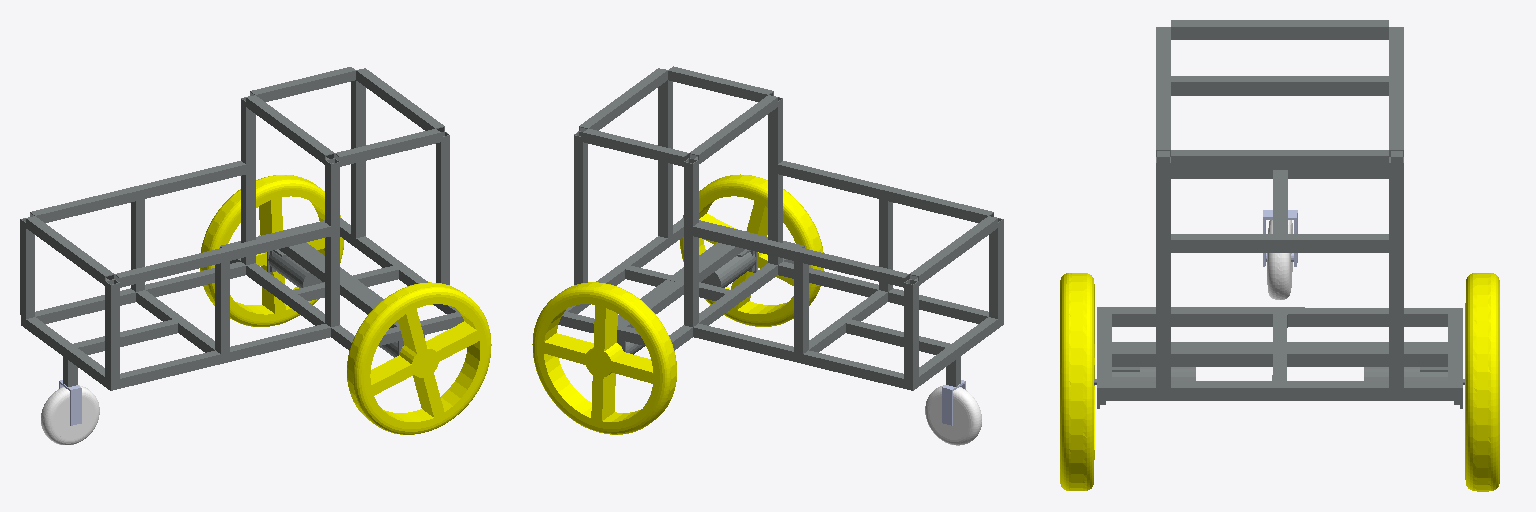
robot.urdf — rugved_description:
<robot
  name="rugved_description">
  <link
    name="base_link">
    <inertial>
      <origin
        xyz="0.10025 -0.00023509 0.24914"
        rpy="0 0 0" />
      <mass
        value="15.129" />
      <inertia
        ixx="0.93792"
        ixy="6.0247E-05"
        ixz="0.12433"
        iyy="1.0368"
        iyz="-0.00022393"
        izz="1.4369" />
    </inertial>
    <visual>
      <origin
        xyz="0 0 0"
        rpy="0 0 0" />
      <geometry>
        <mesh
          filename="package://rugved_description/meshes/base_link.STL" />
      </geometry>
      <material
        name="">
        <color
          rgba="0.52941 0.54902 0.54902 1" />
      </material>
    </visual>
    <collision>
      <origin
        xyz="0 0 0"
        rpy="0 0 0" />
      <geometry>
        <mesh
          filename="package://rugved_description/meshes/base_link.STL" />
      </geometry>
    </collision>
  </link>
  <link
    name="left_wheel">
    <inertial>
      <origin
        xyz="4.8804E-06 4.0992E-08 -0.030108"
        rpy="0 0 0" />
      <mass
        value="3.4752" />
      <inertia
        ixx="0"
        ixy="0"
        ixz="0"
        iyy="0"
        iyz="0"
        izz="0" />
    </inertial>
    <visual>
      <origin
        xyz="0 0 0"
        rpy="0 0 0" />
      <geometry>
        <mesh
          filename="package://rugved_description/meshes/left_wheel.STL" />
      </geometry>
      <material
        name="">
        <color
          rgba="1 1 0 1" />
      </material>
    </visual>
    <collision>
      <origin
        xyz="0 0 0"
        rpy="0 0 0" />
      <geometry>
        <mesh
          filename="package://rugved_description/meshes/left_wheel.STL" />
      </geometry>
    </collision>
  </link>
  <joint
    name="left_wheel_joint"
    type="continuous">
    <origin
      xyz="0.19629 -0.32301 0.17667"
      rpy="-1.5708 -0.25912 -0.00040556" />
    <parent
      link="base_link" />
    <child
      link="left_wheel" />
    <axis
      xyz="0 0 -1" />
    <limit
      effort="1000"
      velocity="1" />
  </joint>
  <link
    name="right_wheel">
    <inertial>
      <origin
        xyz="4.8804E-06 4.0992E-08 -0.030108"
        rpy="0 0 0" />
      <mass
        value="3.4752" />
      <inertia
        ixx="0"
        ixy="0"
        ixz="0"
        iyy="0"
        iyz="0"
        izz="0" />
    </inertial>
    <visual>
      <origin
        xyz="0 0 0"
        rpy="0 0 0" />
      <geometry>
        <mesh
          filename="package://rugved_description/meshes/right_wheel.STL" />
      </geometry>
      <material
        name="">
        <color
          rgba="1 1 0 1" />
      </material>
    </visual>
    <collision>
      <origin
        xyz="0 0 0"
        rpy="0 0 0" />
      <geometry>
        <mesh
          filename="package://rugved_description/meshes/right_wheel.STL" />
      </geometry>
    </collision>
  </link>
  <joint
    name="right_wheel_joint"
    type="continuous">
    <origin
      xyz="0.19655 0.32239 0.17667"
      rpy="1.5708 -0.034643 -0.00040556" />
    <parent
      link="base_link" />
    <child
      link="right_wheel" />
    <axis
      xyz="0 0 1" />
    <limit
      effort="1000"
      velocity="1" />
  </joint>
  <link
    name="castor_cover">
    <inertial>
      <origin
        xyz="-5.3158E-06 0.04242 7.9919E-08"
        rpy="0 0 0" />
      <mass
        value="0.050568" />
      <inertia
        ixx="0"
        ixy="0"
        ixz="0"
        iyy="0"
        iyz="0"
        izz="0" />
    </inertial>
    <visual>
      <origin
        xyz="0 0 0"
        rpy="0 0 0" />
      <geometry>
        <mesh
          filename="package://rugved_description/meshes/castor_cover.STL" />
      </geometry>
      <material
        name="">
        <color
          rgba="0.79216 0.81961 0.93333 1" />
      </material>
    </visual>
    <collision>
      <origin
        xyz="0 0 0"
        rpy="0 0 0" />
      <geometry>
        <mesh
          filename="package://rugved_description/meshes/castor_cover.STL" />
      </geometry>
    </collision>
  </link>
  <joint
    name="vertical_castor_joint"
    type="continuous">
    <origin
      xyz="-0.56553 0 0.049371"
      rpy="1.5704 -1.7164E-05 1.5268" />
    <parent
      link="base_link" />
    <child
      link="castor_cover" />
    <axis
      xyz="0 1 0" />
    <limit
      effort="400"
      velocity="1" />
  </joint>
  <link
    name="castor_wheel">
    <inertial>
      <origin
        xyz="3.785E-08 -6.6349E-08 4.9622E-06"
        rpy="0 0 0" />
      <mass
        value="0.66966" />
      <inertia
        ixx="0"
        ixy="0"
        ixz="0"
        iyy="0"
        iyz="0"
        izz="0" />
    </inertial>
    <visual>
      <origin
        xyz="0 0 0"
        rpy="0 0 0" />
      <geometry>
        <mesh
          filename="package://rugved_description/meshes/castor_wheel.STL" />
      </geometry>
      <material
        name="">
        <color
          rgba="1 1 1 1" />
      </material>
    </visual>
    <collision>
      <origin
        xyz="0 0 0"
        rpy="0 0 0" />
      <geometry>
        <mesh
          filename="package://rugved_description/meshes/castor_wheel.STL" />
      </geometry>
    </collision>
  </link>
  <joint
    name="horizontal_castor_joint"
    type="continuous">
    <origin
      xyz="0 0.013 0"
      rpy="1.5708 0.97377 -1.5708" />
    <parent
      link="castor_cover" />
    <child
      link="castor_wheel" />
    <axis
      xyz="0 0 1" />
    <limit
      effort="500"
      velocity="1" />
  </joint>
  
  
  
  <!--differential drive plugin -->
  <gazebo>
    <plugin name="differential_drive_controller" filename="libgazebo_ros_diff_drive.so">
      <legacyMode>false</legacyMode>
      <alwaysOn>true</alwaysOn>
      <updateRate>20</updateRate>
      <leftJoint>left_wheel_joint</leftJoint>
      <rightJoint>right_wheel_joint</rightJoint>
      <wheelSeparation>0.6454</wheelSeparation>
      <wheelDiameter>0.1</wheelDiameter>
      <torque>20</torque>
      <commandTopic>cmd_vel</commandTopic>
      <odometryTopic>base_footprint</odometryTopic>
      <odometryFrame>base_footprint</odometryFrame>
      <robotBaseFrame>base_link</robotBaseFrame>
      
    </plugin>
  </gazebo>
</robot>

--- Render facts (derived) ---
3 views of the same robot in one strip: view 1: azimuth 30°, elevation 25°; view 2: azimuth 150°, elevation 25°; view 3: azimuth 270°, elevation 25° (orthographic).
Model rugved_description with 5 links and 4 joints (4 continuous), rooted at base_link, posed all joints at 0.
Visible links, largest first — view 1: base_link, left_wheel, right_wheel, castor_wheel; view 2: base_link, right_wheel, left_wheel, castor_wheel; view 3: base_link, right_wheel, left_wheel, castor_wheel.
Boxes of the visible links, x1,y1,x2,y2 form: base_link: (20, 67, 463, 390); left_wheel: (347, 282, 491, 434); right_wheel: (200, 175, 343, 326); castor_wheel: (41, 385, 99, 444); base_link: (558, 66, 1003, 390); right_wheel: (532, 282, 676, 434); left_wheel: (680, 174, 823, 326); castor_wheel: (925, 385, 981, 445); base_link: (1094, 20, 1464, 408); right_wheel: (1465, 273, 1499, 491); left_wheel: (1060, 273, 1094, 490); castor_wheel: (1267, 220, 1292, 299).
Bounding box of the posed robot: 1.03 × 0.7657 × 0.701 m (x, y, z).
5 mesh visuals loaded from 5 distinct referenced files (5 binary STL).
